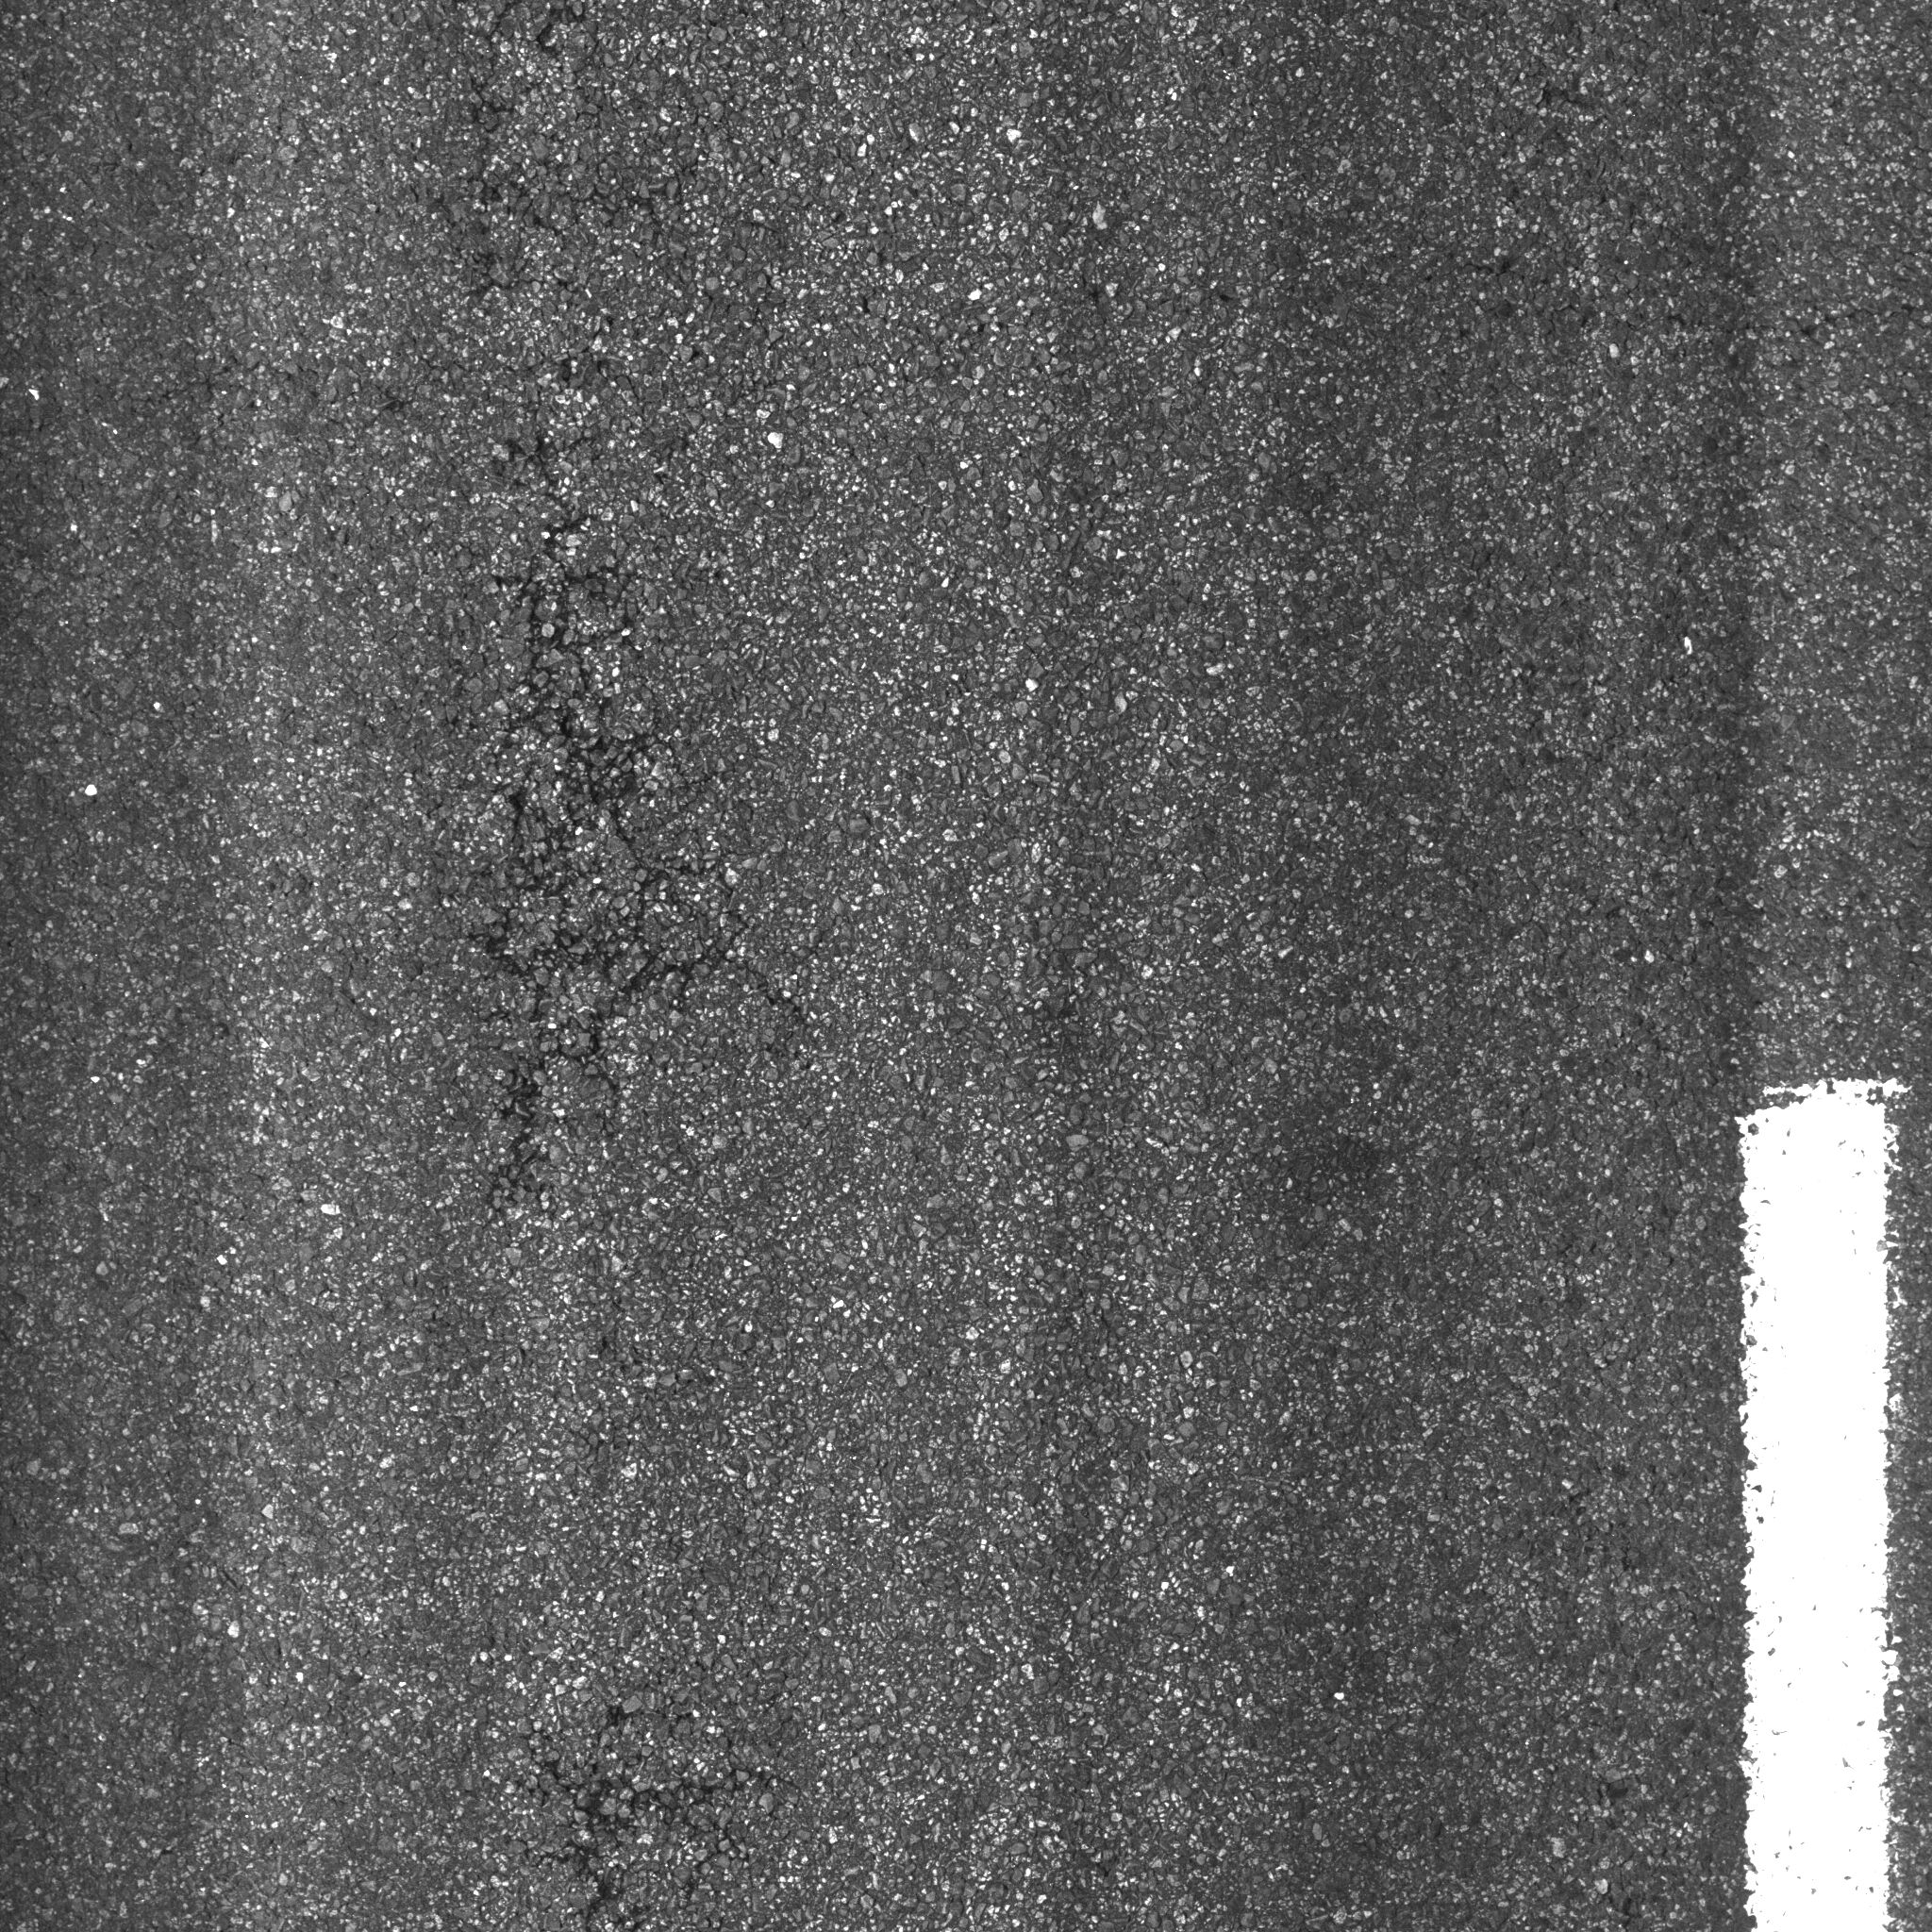alligator: (364, 414, 927, 1244)
